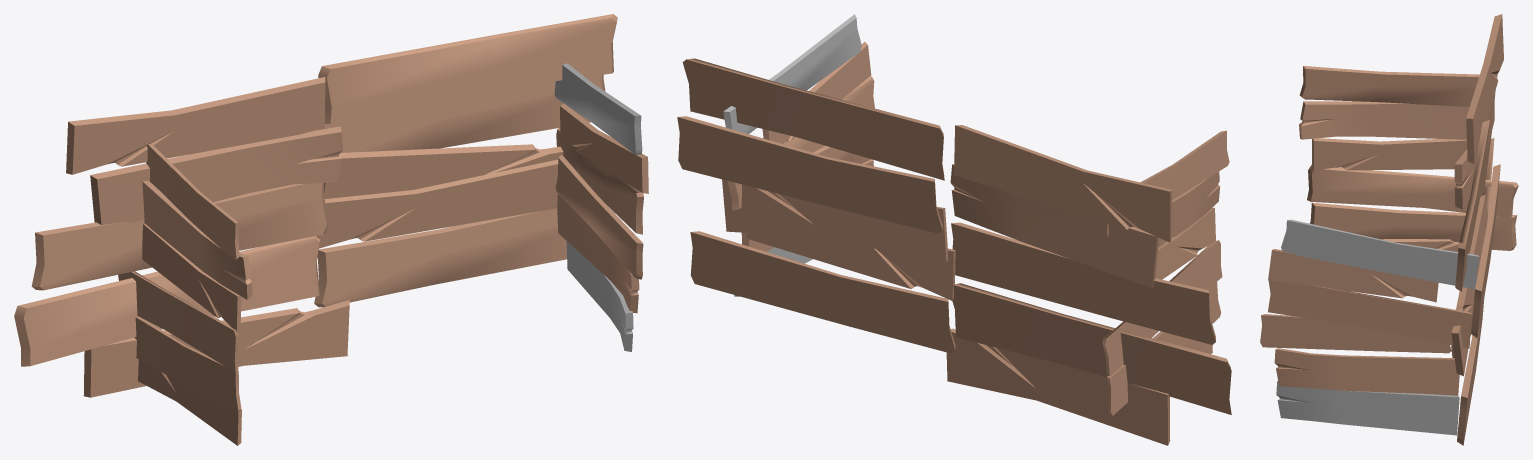
File: ACT3_BackWall_fin.fbx
3 views of the same model, side by side, from view 1: azimuth 30°, elevation 25°; view 2: azimuth 150°, elevation 25°; view 3: azimuth 270°, elevation 25° (orthographic). The views are drawn at different scales.
Visible parts, largest first — view 1: Flank_Long48, Flank_Long47, Flank_SideBite11, Flank_Long50, Flank_Long, Flank_SideBite, Flank_Curve, Flank_Long49, Flank_SideBite13, Flank_SideBite12, Flank_Long52, Flank_Curve16 (+10 smaller); view 2: Flank_Long50, Flank_Long47, Flank_Long49, Flank_Long48, Flank_Long, Flank_SideBite11, Flank_SideBite13, Flank_Curve, Flank_SideBite12, Flank_SideBite, Flank_Long56, Flank_Long51 (+6 smaller); view 3: Flank_Long55, Flank_Curve17, Flank_Curve18, Flank_Long56, Flank_Curve16, Flank_Long52, Flank_Long51, Flank_Long53, Flank_SideBite14, Flank_Long54, Flank_SideBite16, Flank_SideBite11 (+7 smaller).
Boxes of the visible parts, <box> form: Flank_Long48: <box>318,14,617,123</box>; Flank_Long47: <box>314,208,566,307</box>; Flank_SideBite11: <box>66,77,325,174</box>; Flank_Long50: <box>14,236,320,366</box>; Flank_Long: <box>31,183,328,290</box>; Flank_SideBite: <box>317,159,558,248</box>; Flank_Curve: <box>90,126,342,224</box>; Flank_Long49: <box>324,74,605,152</box>; Flank_SideBite13: <box>83,300,349,397</box>; Flank_SideBite12: <box>323,144,563,198</box>; Flank_Long52: <box>118,271,238,372</box>; Flank_Curve16: <box>142,181,252,299</box>; Flank_Long50: <box>952,283,1231,414</box>; Flank_Long47: <box>690,231,955,353</box>; Flank_Long49: <box>677,116,942,233</box>; Flank_Long48: <box>682,58,944,180</box>; Flank_Long: <box>951,222,1215,344</box>; Flank_SideBite11: <box>954,125,1172,242</box>; Flank_SideBite13: <box>946,328,1170,445</box>; Flank_Curve: <box>950,164,1158,288</box>; Flank_SideBite12: <box>722,179,947,262</box>; Flank_SideBite: <box>746,233,955,300</box>; Flank_Long56: <box>723,14,861,133</box>; Flank_Long51: <box>1106,130,1229,236</box>; Flank_Long55: <box>1268,280,1472,348</box>; Flank_Curve17: <box>1274,348,1459,395</box>; Flank_Curve18: <box>1276,381,1459,435</box>; Flank_Long56: <box>1281,219,1479,289</box>; Flank_Curve16: <box>1299,101,1469,139</box>; Flank_Long52: <box>1307,165,1518,218</box>; Flank_Long51: <box>1299,66,1479,106</box>; Flank_Long53: <box>1310,202,1517,250</box>; Flank_SideBite14: <box>1311,138,1466,170</box>; Flank_Long54: <box>1260,314,1451,353</box>; Flank_SideBite16: <box>1268,249,1438,302</box>; Flank_SideBite11: <box>1466,14,1503,163</box>.
Size of the model in its own units: 10.52 by 4.75 by 4.56.
